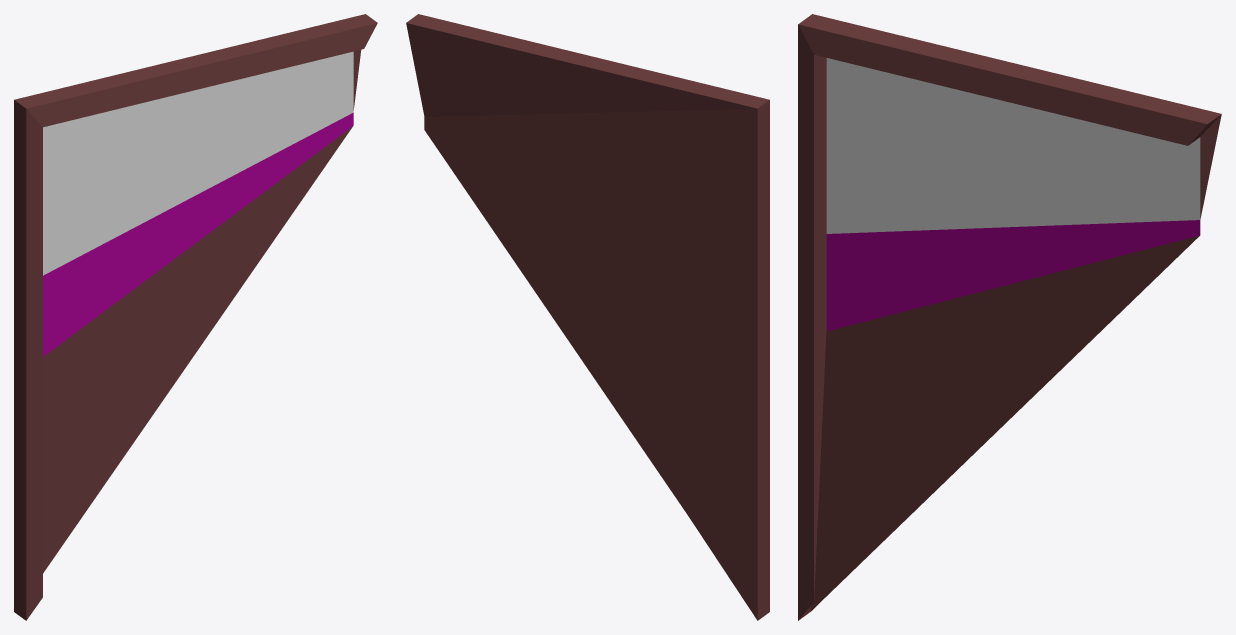
File: PaintingBroken.fbx
3 views of the same model, side by side, from view 1: azimuth 30°, elevation 25°; view 2: azimuth 150°, elevation 25°; view 3: azimuth 330°, elevation 25° (orthographic). The views are drawn at different scales.
Visible parts, largest first — view 1: pCube1; view 2: pCube1; view 3: pCube1.
Part boxes in pixels (<box>): pCube1: <box>14,14,377,620</box>; pCube1: <box>406,14,769,620</box>; pCube1: <box>798,14,1221,620</box>.
Bounding box in the file's own units: 11.68 × 16.27 × 0.7919.
